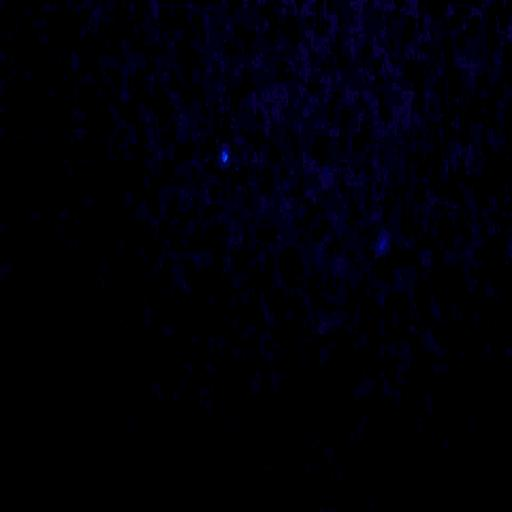object-detection-project: (222, 151, 228, 163)
